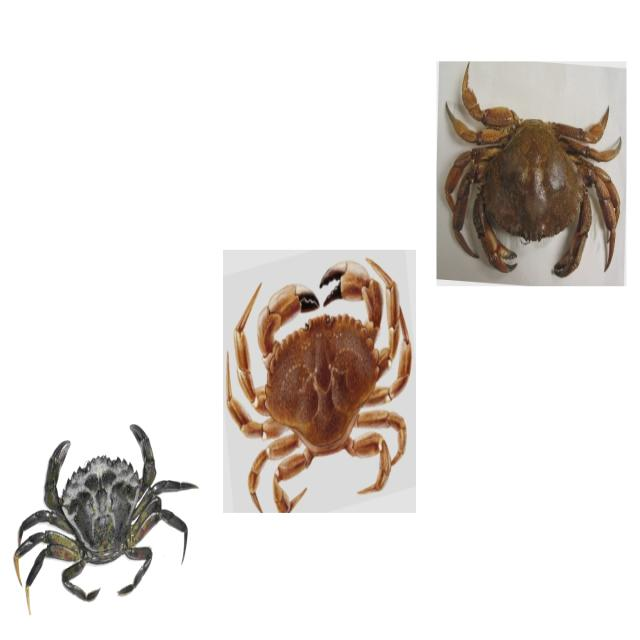egc: (12, 422, 197, 611)
jonah_crab: (224, 252, 418, 514)
rock_crab: (446, 64, 623, 277)
